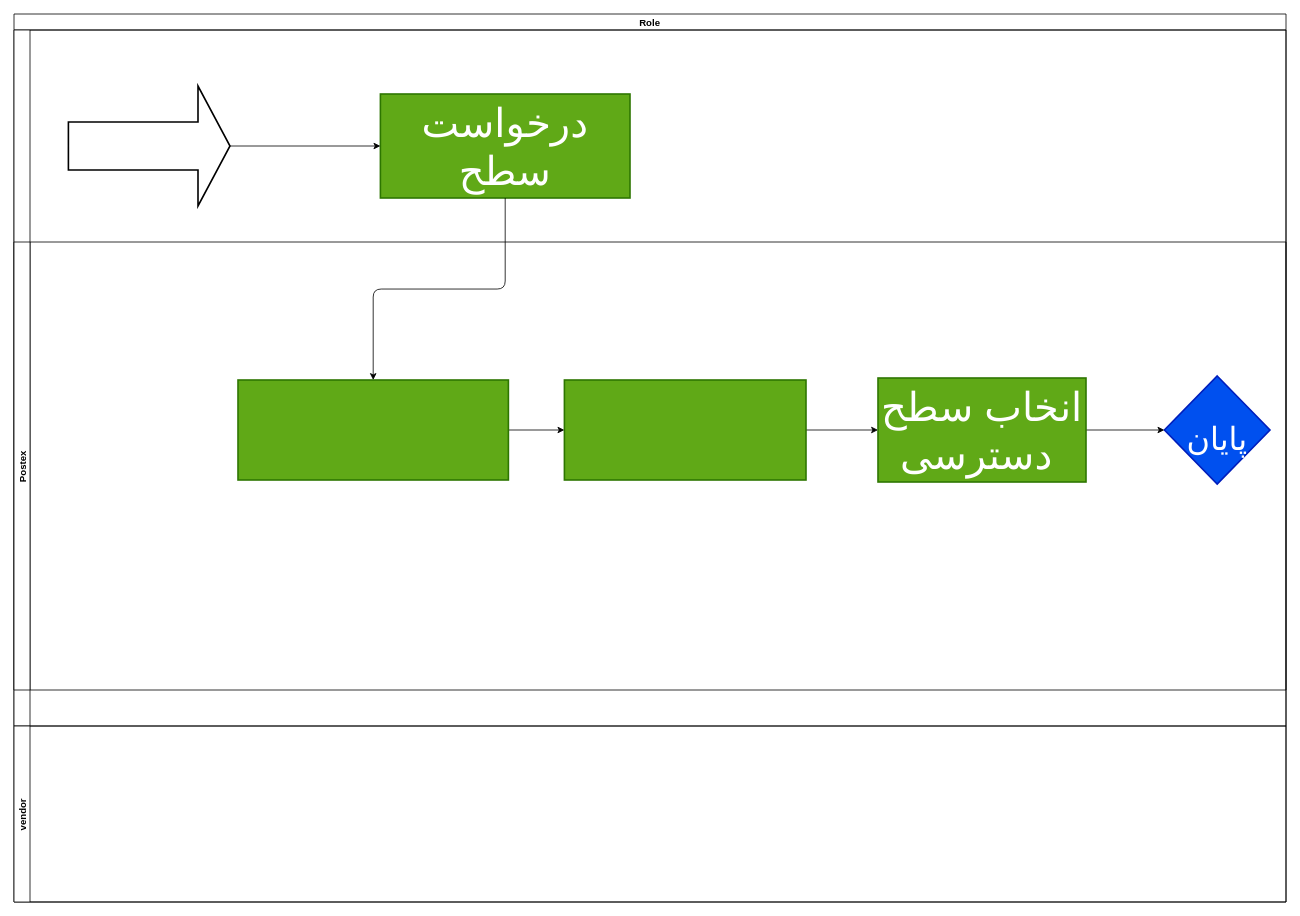
Some shapes in this 1300 by 916 pixel diagram are drawn without their labels. The shapes that lost their labels are listed below. From the top down, each one's box as (x1, y1, x2, y2) in pixels, then its label:
(67, 85, 230, 206): ثبت نام
(237, 379, 509, 480): ورود به قسمت مشتری
(563, 379, 806, 480): وارد کردن نام کاربری
